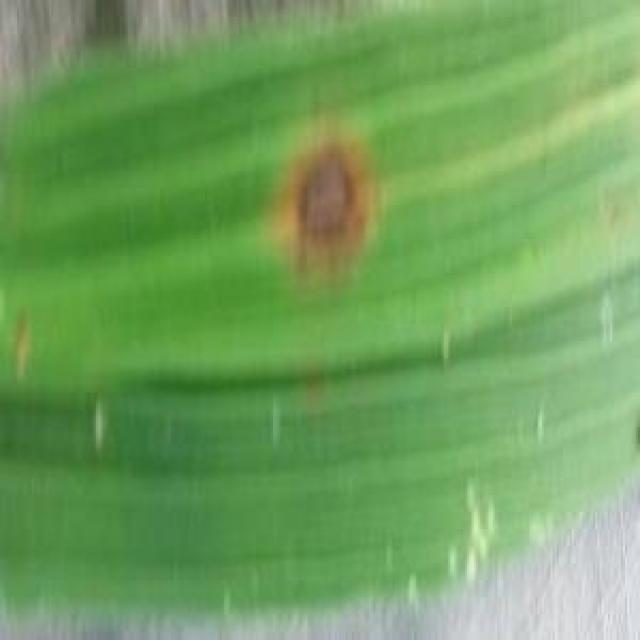Brown_Spot: (280, 127, 370, 276)
